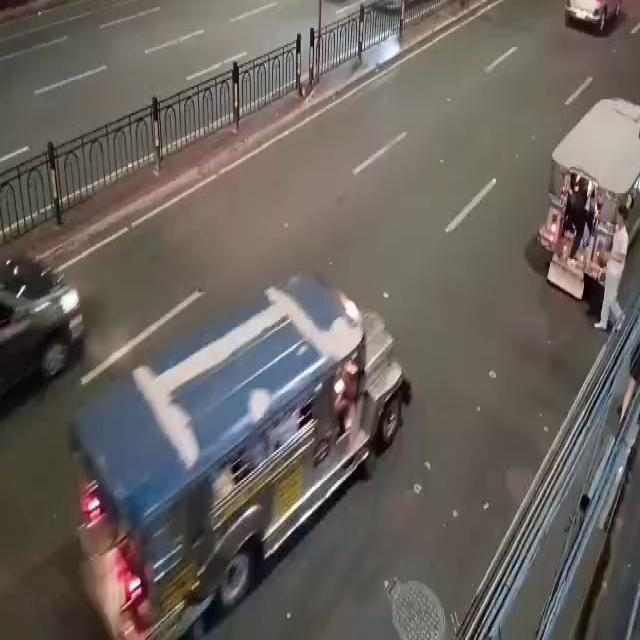car: (0, 224, 89, 384)
jeepney: (53, 253, 436, 638), (531, 67, 640, 355)
